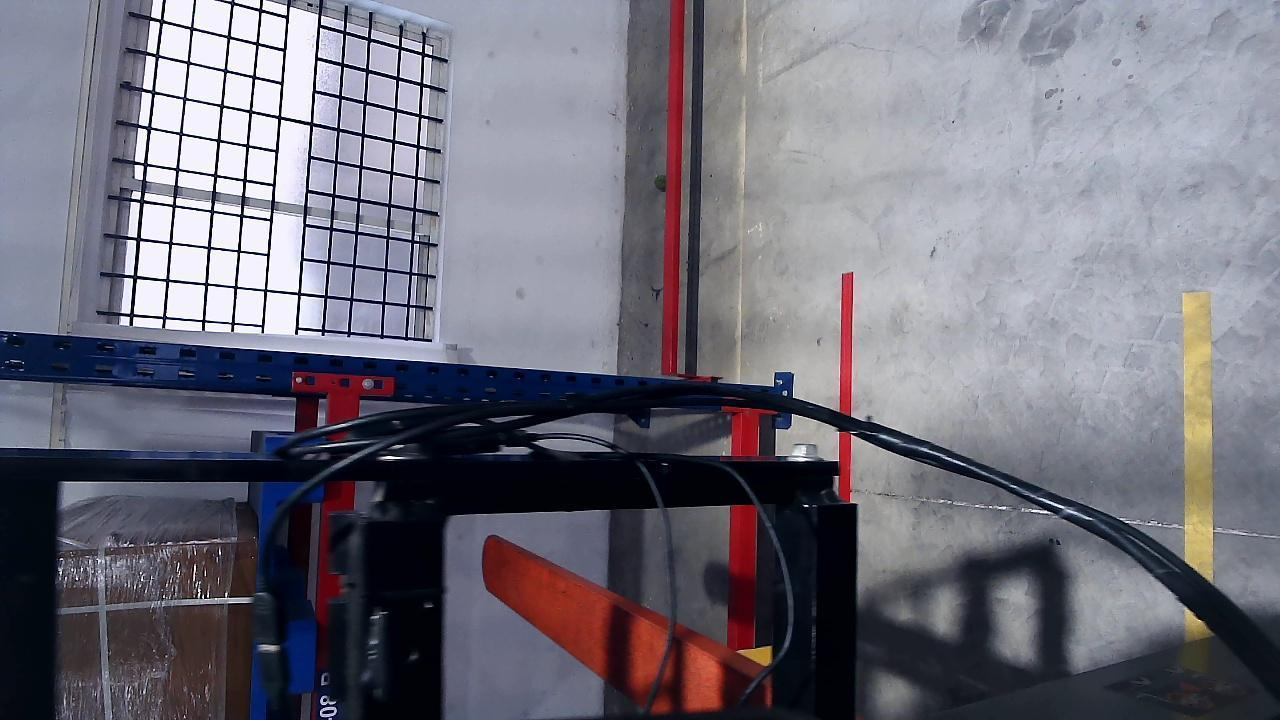red_line: (838, 271, 856, 508)
yellow_line: (1182, 291, 1215, 581)
